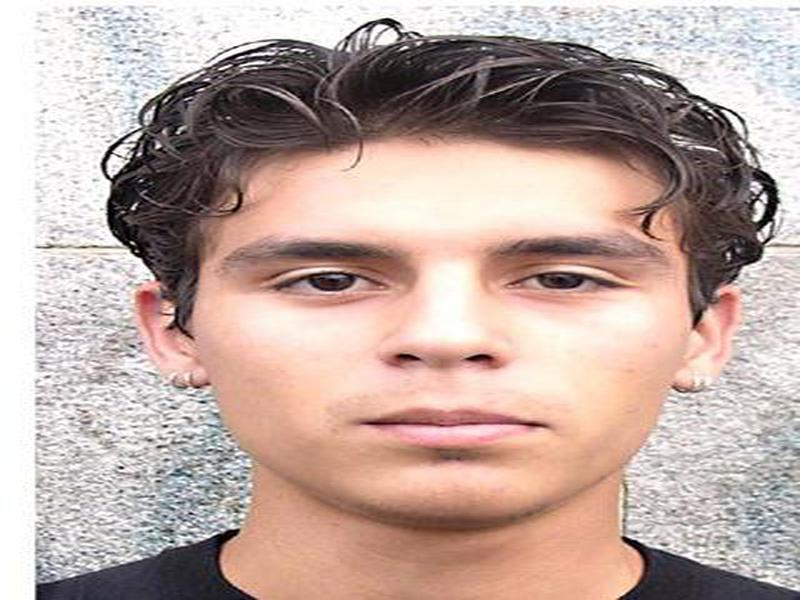without_mask: (187, 152, 683, 531)
